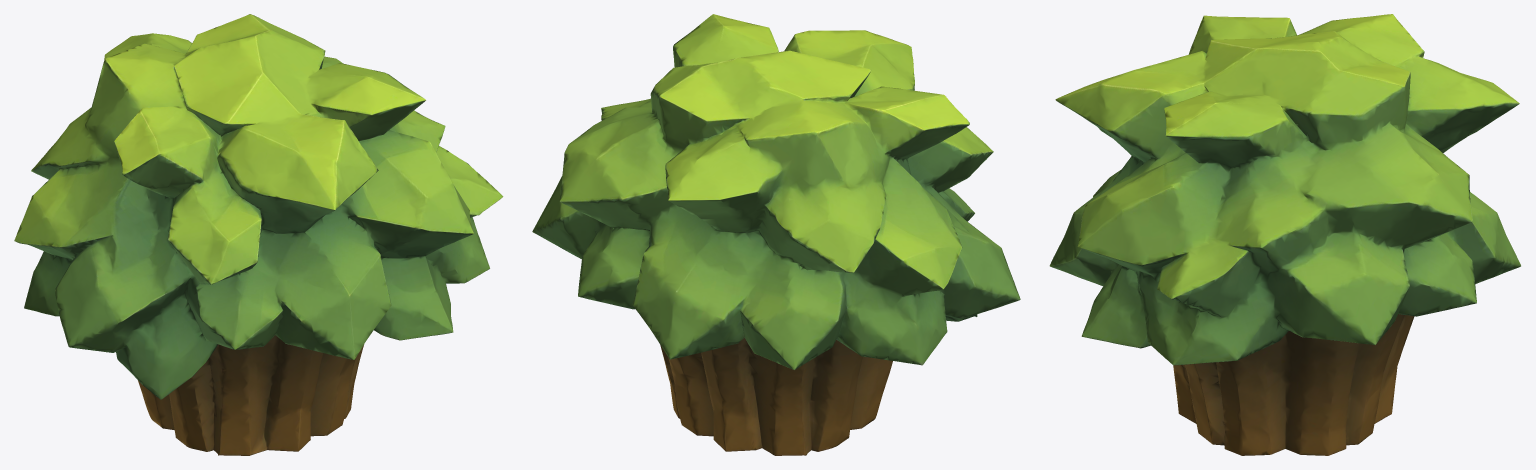
Rendered from bush_small.glb.
3 views of the same model, side by side, from view 1: azimuth 30°, elevation 25°; view 2: azimuth 150°, elevation 25°; view 3: azimuth 270°, elevation 25° (orthographic). The views are drawn at different scales.
Parts seen in each view (by area): view 1: tripo_node_fa9c6a2e-16a1-4c85-bf63-5b79fbcf860b; view 2: tripo_node_fa9c6a2e-16a1-4c85-bf63-5b79fbcf860b; view 3: tripo_node_fa9c6a2e-16a1-4c85-bf63-5b79fbcf860b.
Part boxes in pixels (bbox=[...]): tripo_node_fa9c6a2e-16a1-4c85-bf63-5b79fbcf860b: bbox=[14, 14, 503, 455]; tripo_node_fa9c6a2e-16a1-4c85-bf63-5b79fbcf860b: bbox=[532, 14, 1020, 455]; tripo_node_fa9c6a2e-16a1-4c85-bf63-5b79fbcf860b: bbox=[1049, 14, 1520, 455].
Bounding box in the file's own units: 1 × 0.8385 × 0.9532.
1 material, 1 textured.
